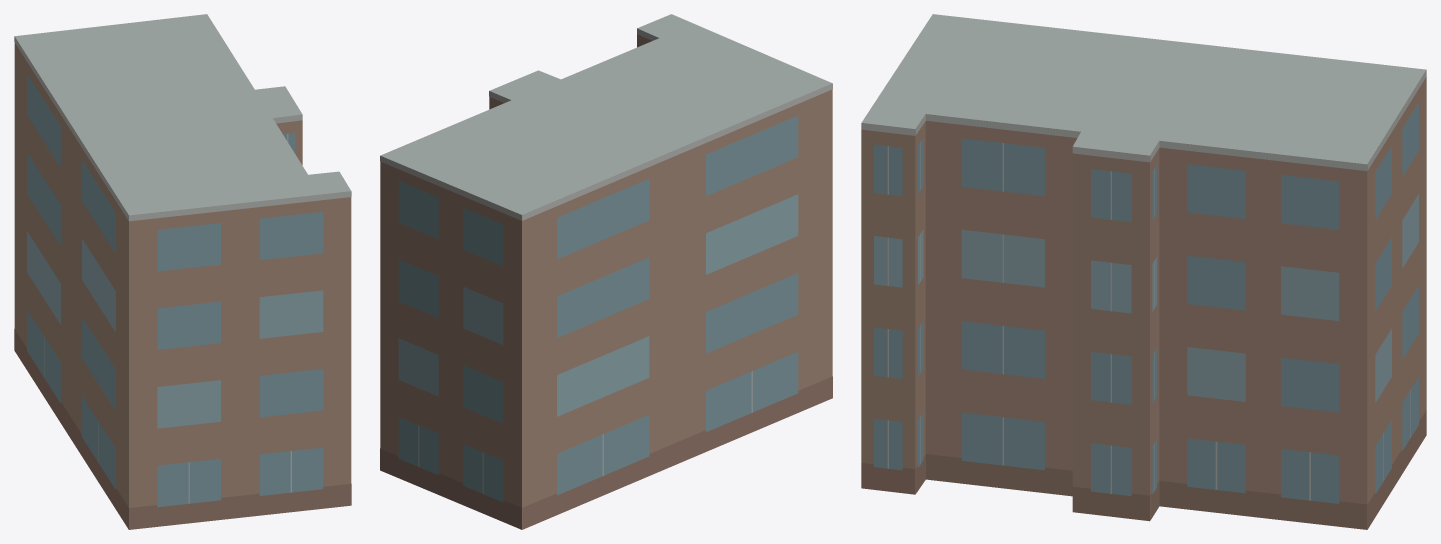
File: survey-upis-32740912.glb
3 views of the same model, side by side, from view 1: azimuth 30°, elevation 25°; view 2: azimuth 150°, elevation 25°; view 3: azimuth 270°, elevation 25° (orthographic). The views are drawn at different scales.
Parts seen in each view (by area): view 1: survey-upis-32740912.tmp; view 2: survey-upis-32740912.tmp; view 3: survey-upis-32740912.tmp.
Boxes of the visible parts, <box> form: survey-upis-32740912.tmp: <box>14,14,351,529</box>; survey-upis-32740912.tmp: <box>380,14,832,529</box>; survey-upis-32740912.tmp: <box>861,14,1426,529</box>.
Size of the model in its own units: 11.66 by 13.2 by 18.51.
